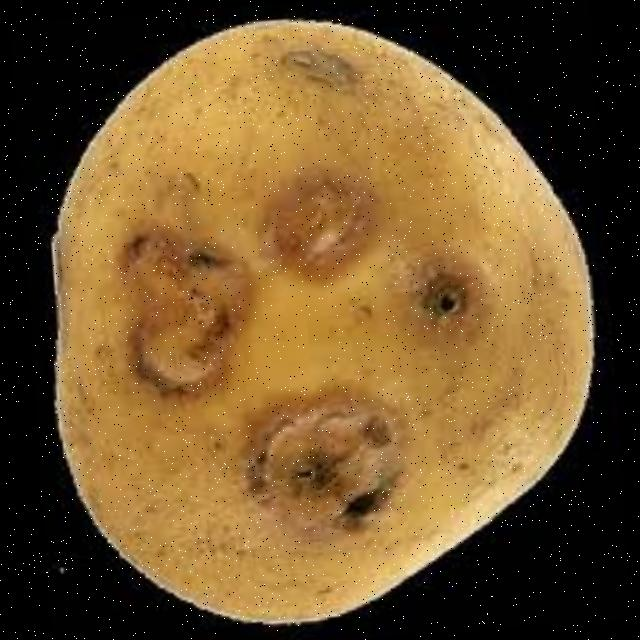Defected potato: (21, 11, 614, 620)
